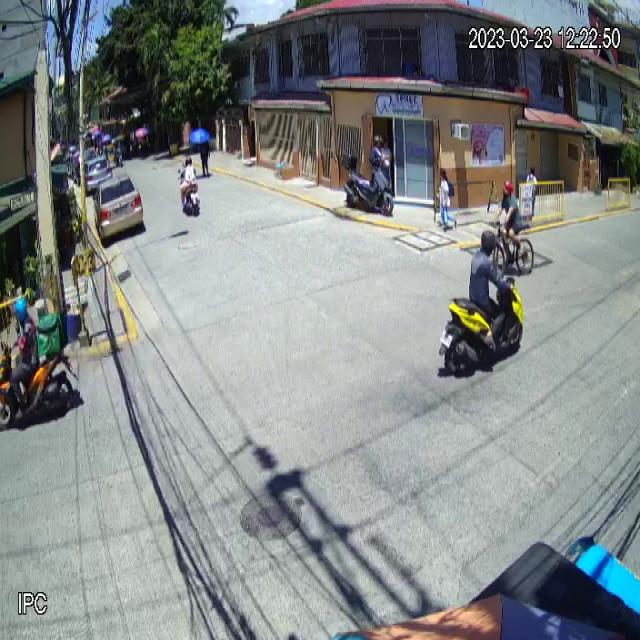Car: (93, 174, 144, 240)
Motorcycle: (439, 278, 525, 377)
